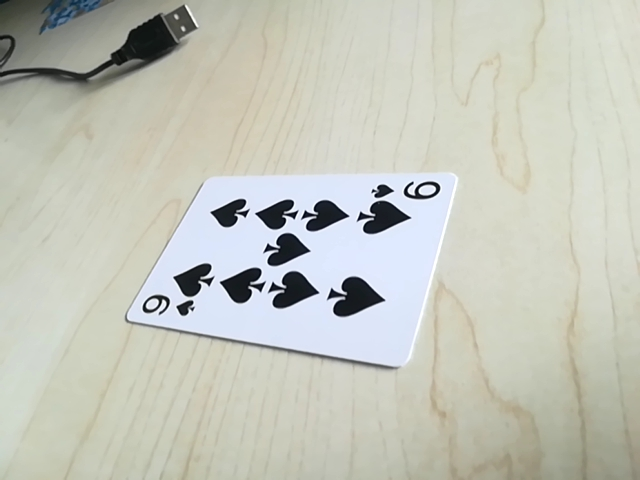ht 9: (367, 177, 449, 204), (131, 291, 200, 323)
